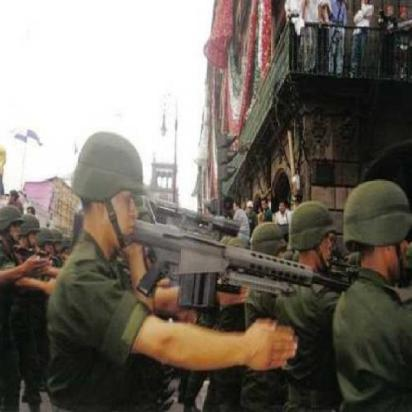Gun: (117, 201, 343, 311)
